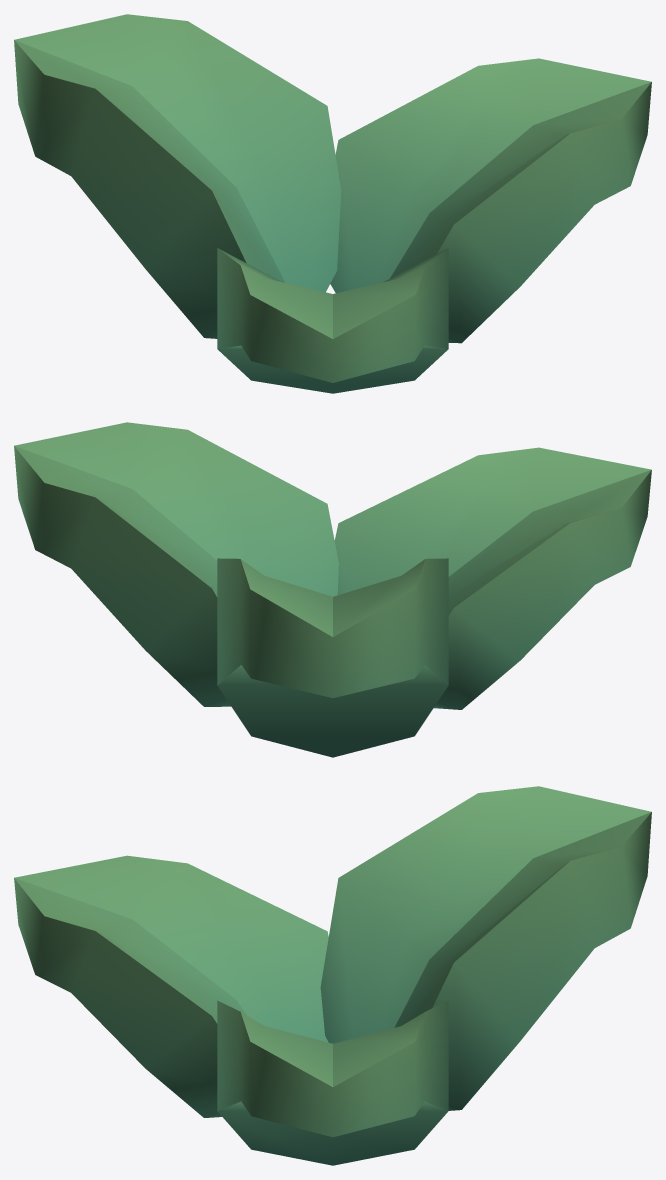
Rendered from plant.glb.
3 views of the same model, one above another, from view 1: azimuth 30°, elevation 25°; view 2: azimuth 150°, elevation 25°; view 3: azimuth 270°, elevation 25° (orthographic).
Parts seen in each view (by area): view 1: plant; view 2: plant; view 3: plant.
Boxes of the visible parts, box(x1,y1,x2,y2) form: plant: box(14, 14, 651, 393); plant: box(14, 422, 651, 757); plant: box(14, 786, 651, 1165).
Bounding box in the file's own units: 0.3964 × 0.1919 × 0.4305.
